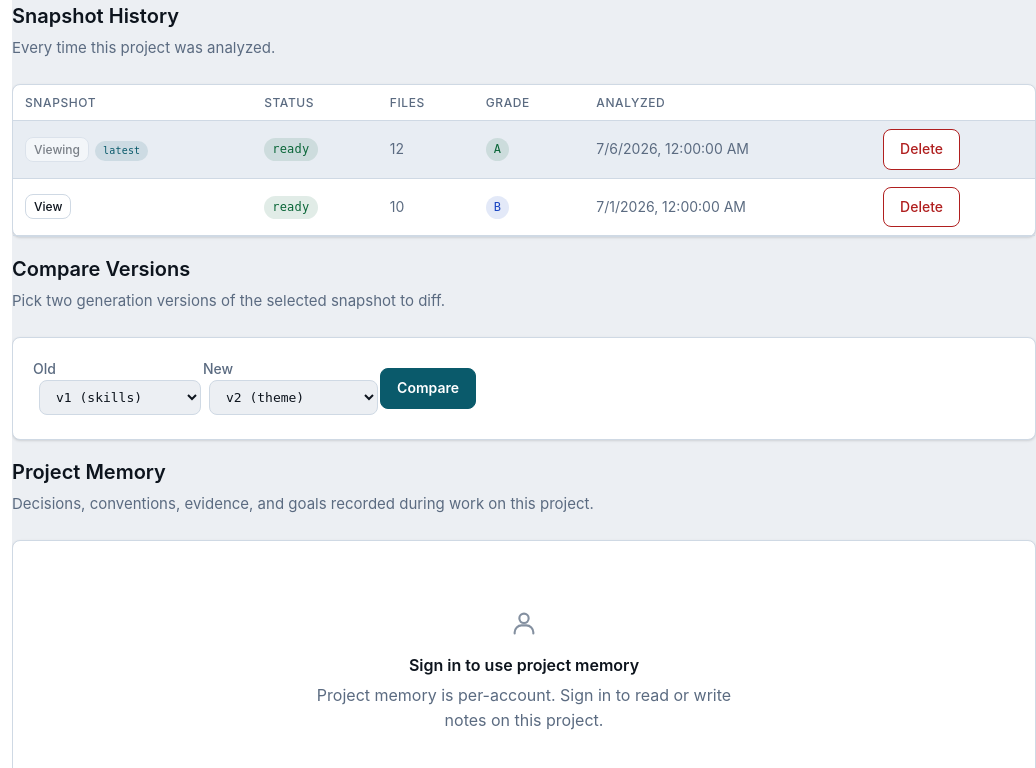
Test case: VersionsTab — compare versions + diff › a stale diff from a de-selected snapshot's Compare cannot overwrite the currently-viewed one (H-Phase-A cycle 12)
The width and height of the screenshot is (1036, 768).
Click the button "Compare".
click(428, 389)  # box left=380, top=368, right=476, bottom=409
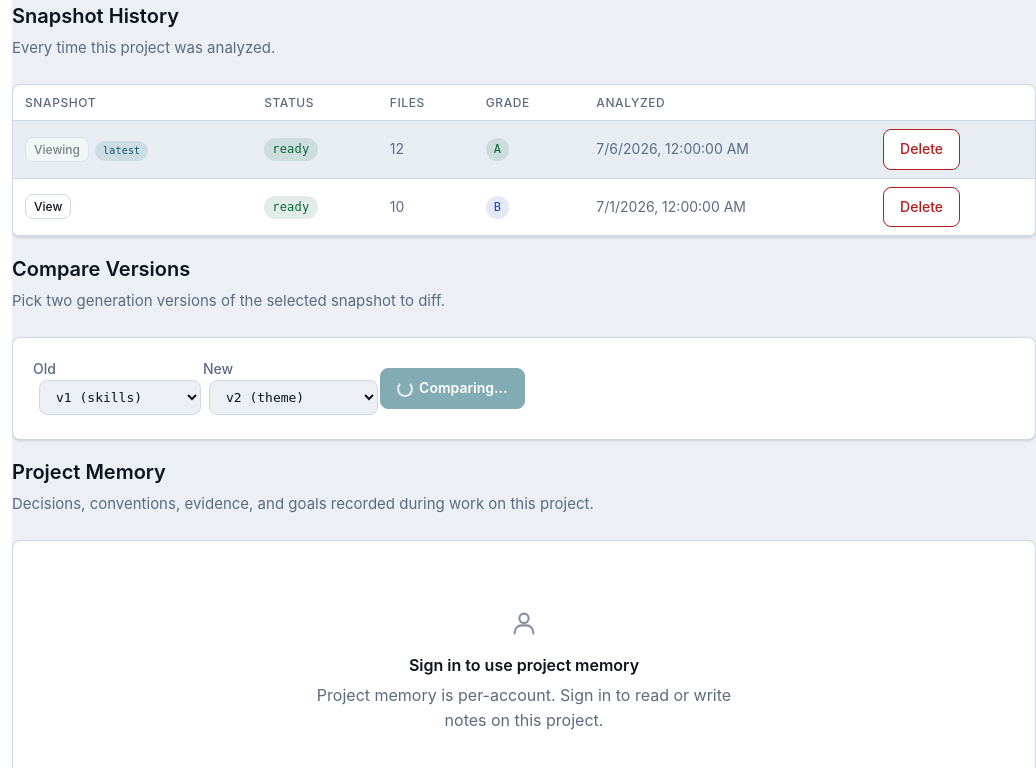
Click the button "View".
click(48, 207)  # box left=25, top=194, right=71, bottom=219
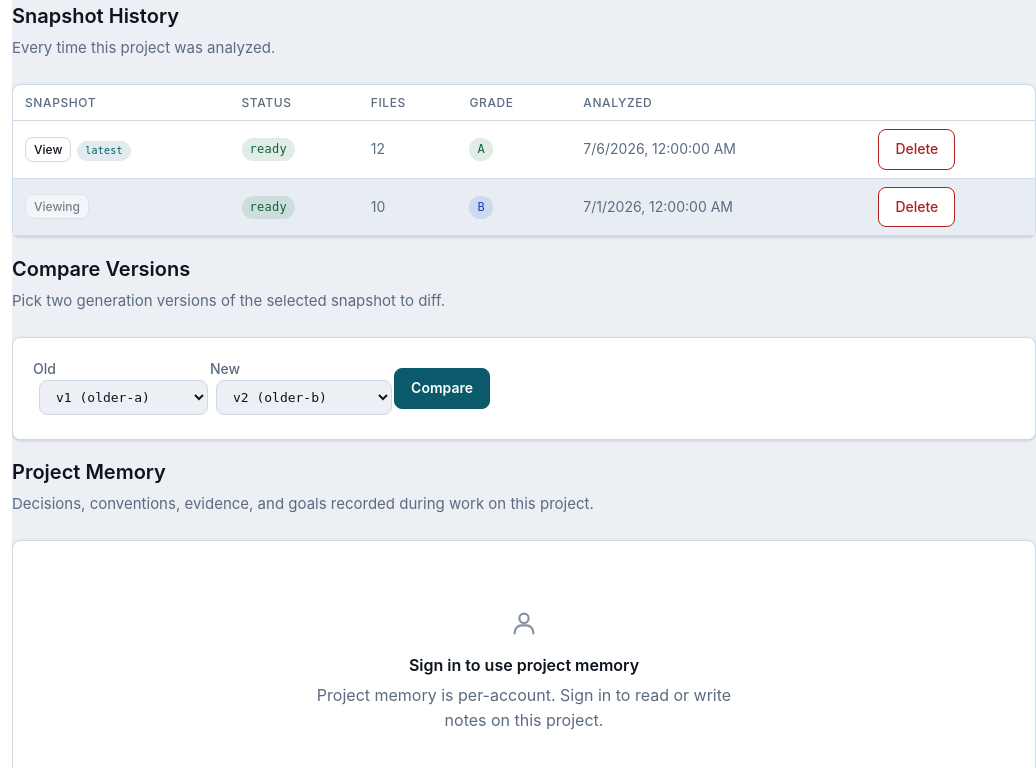
Check: the button "Viewing" is shown, box left=25, top=194, right=89, bottom=219
